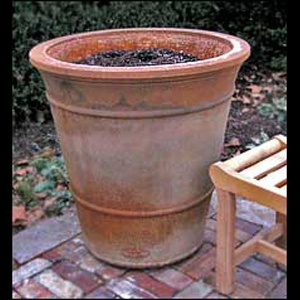flowerpot: (29, 26, 251, 272)
